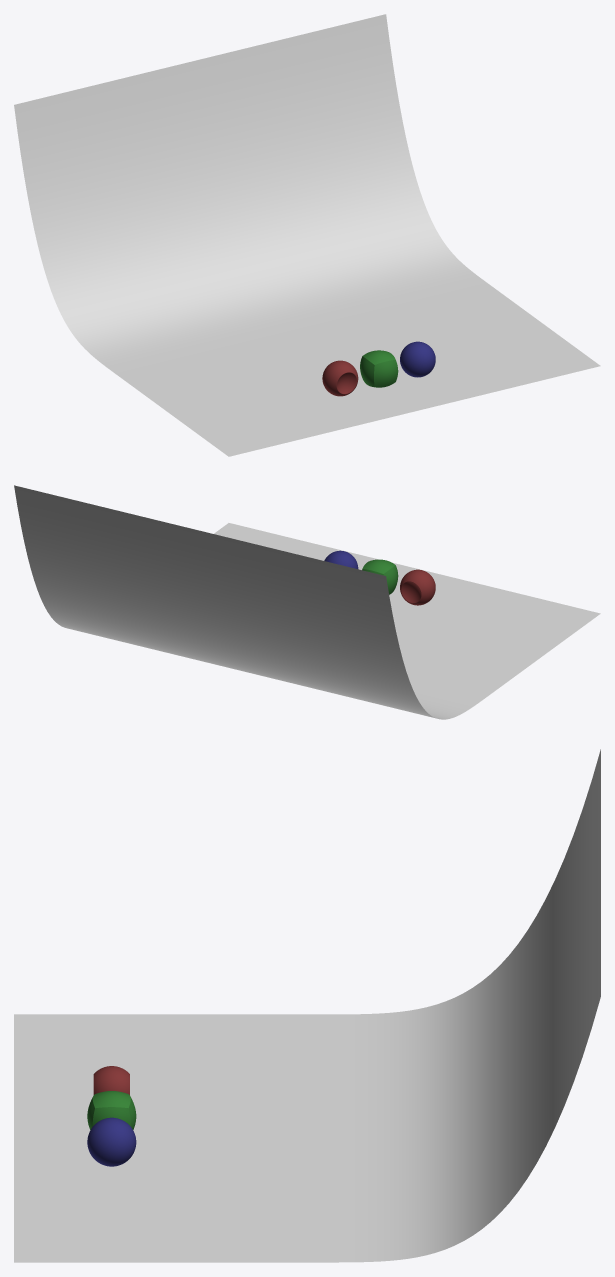
The model's file is shapes.obj.
The picture shows the model from 3 angles, top to bottom: view 1: azimuth 30°, elevation 25°; view 2: azimuth 150°, elevation 25°; view 3: azimuth 270°, elevation 25°; orthographic projection. The views are drawn at different scales.
Visible parts, largest first — view 1: floor, obj02, obj01, obj03; view 2: floor, obj01, obj02, obj03; view 3: floor, obj03, obj02, obj01.
Boxes of the visible parts, x1=… form: floor: x1=14, y1=14, x2=600, y2=456; obj02: x1=360, y1=350, x2=398, y2=387; obj01: x1=322, y1=360, x2=358, y2=396; obj03: x1=400, y1=341, x2=435, y2=377; floor: x1=14, y1=485, x2=600, y2=719; obj01: x1=400, y1=569, x2=435, y2=605; obj02: x1=362, y1=559, x2=398, y2=594; obj03: x1=324, y1=550, x2=358, y2=568; floor: x1=14, y1=749, x2=600, y2=1262; obj03: x1=87, y1=1117, x2=136, y2=1166; obj02: x1=87, y1=1091, x2=136, y2=1129; obj01: x1=93, y1=1066, x2=129, y2=1094.
Bounding box in the file's own units: 12 × 6 × 12.
